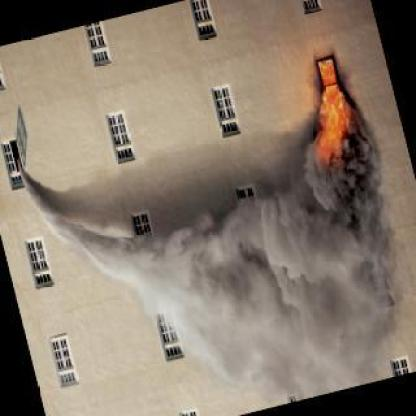Fire: (292, 44, 362, 168)
Smoke: (31, 173, 402, 376)
